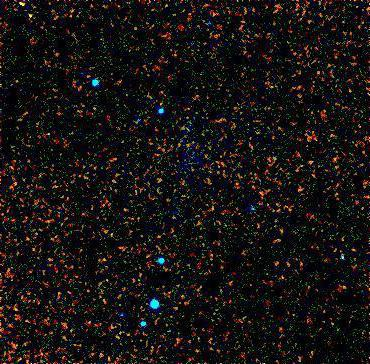star: (15, 0, 45, 29)
